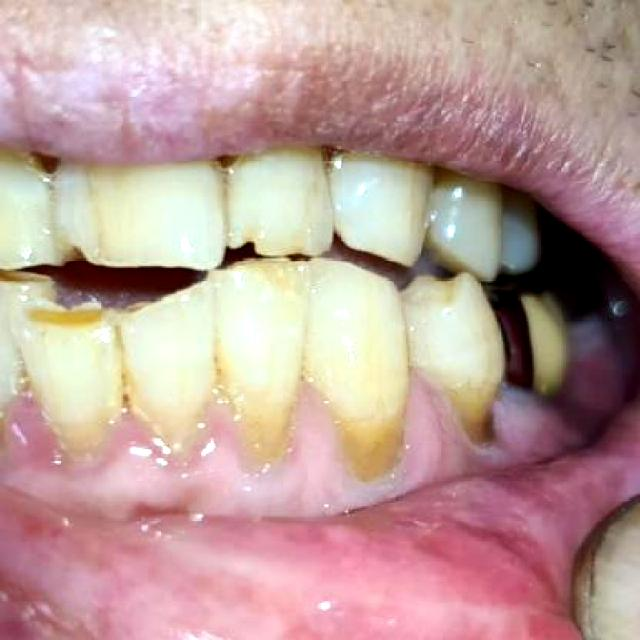Plaque: (1, 369, 585, 522)
